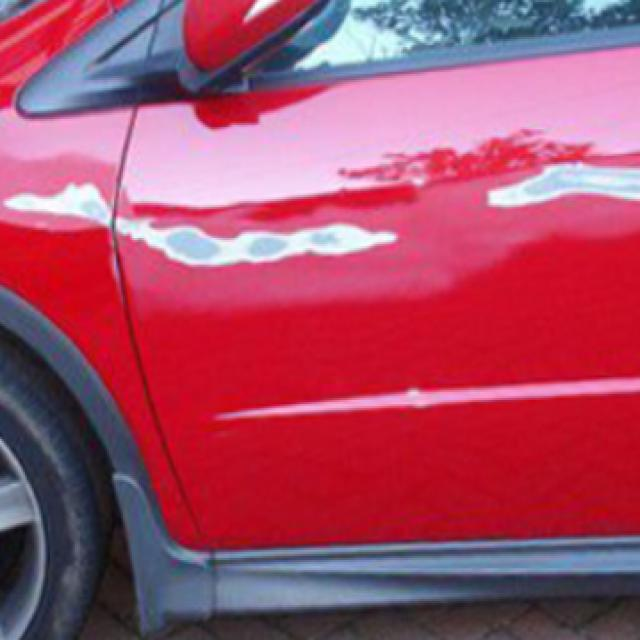scratch: (7, 185, 392, 278), (479, 157, 638, 212)
